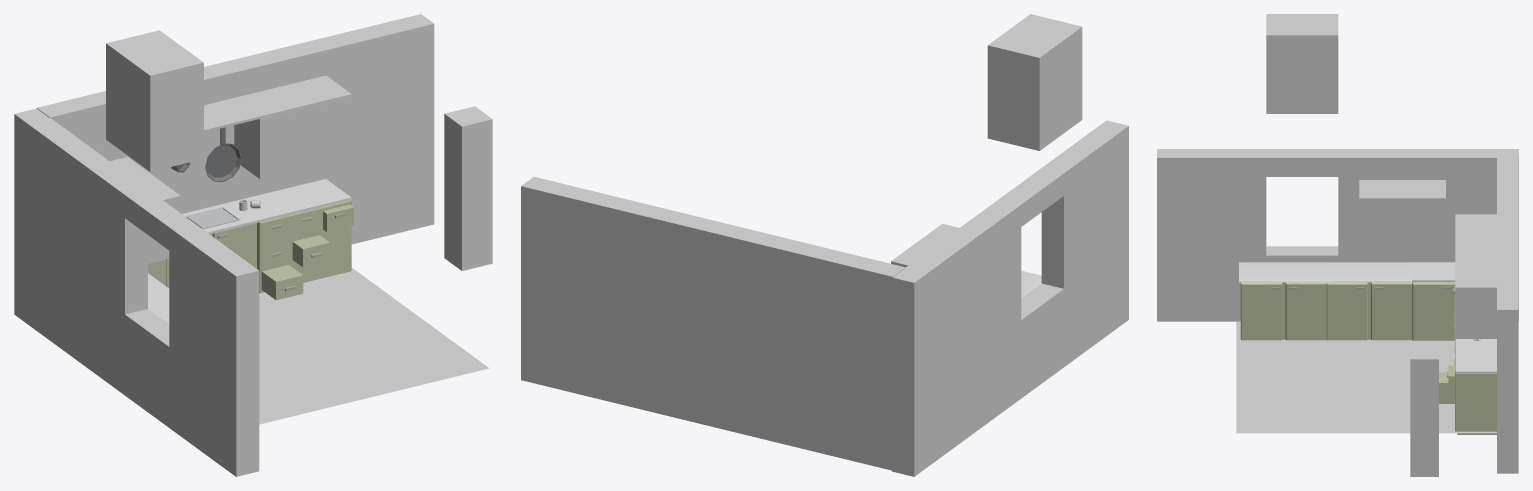
File: kitchen (1) 1.fbx
3 views of the same model, side by side, from view 1: azimuth 30°, elevation 25°; view 2: azimuth 150°, elevation 25°; view 3: azimuth 270°, elevation 25° (orthographic). The views are drawn at different scales.
Visible parts, largest first — view 1: Cube, Cube.001, Ground, Cube.012, Cube.005, Cabinet with drawers, Cube.004, Woodboard for Cab1, Woodboard for Cab2, Cube.013, Cube.010, pan (+2 smaller); view 2: Cube.001, Cube, Cube.012, Cube.013; view 3: Cube, Ground, Cube.012, Cube.001, Cube.013, Cube.003, Cube.002, Cube.005, Woodboard for Cab3, Woodboard for Cab1, Cabinet with drawers, Cube.007 (+3 smaller).
Boxes of the visible parts, x1,y1,x2,y2 form: Cube: (14,108,259,476); Cube.001: (36,14,434,244); Ground: (259,268,489,424); Cube.012: (106,30,203,171); Cube.005: (444,106,492,270); Cabinet with drawers: (257,200,353,300); Cube.004: (234,96,351,178); Woodboard for Cab1: (204,75,351,132); Woodboard for Cab2: (182,179,351,234); Cube.013: (110,157,180,263); Cube.010: (166,223,256,288); pan: (205,127,241,181); Cube.001: (521,176,905,470); Cube: (892,120,1128,476); Cube.012: (987,14,1082,150); Cube.013: (891,223,958,267); Cube: (1157,149,1518,321); Ground: (1236,321,1496,433); Cube.012: (1266,14,1338,113); Cube.001: (1497,157,1518,473); Cube.013: (1359,180,1445,247); Cube.003: (1240,282,1326,340); Cube.002: (1326,282,1412,340); Cube.005: (1410,347,1438,476); Woodboard for Cab3: (1239,262,1411,282); Woodboard for Cab1: (1455,214,1496,289); Cabinet with drawers: (1439,338,1496,434); Cube.007: (1412,282,1455,340).
Bounding box in the file's own units: 562 × 453 × 501.
